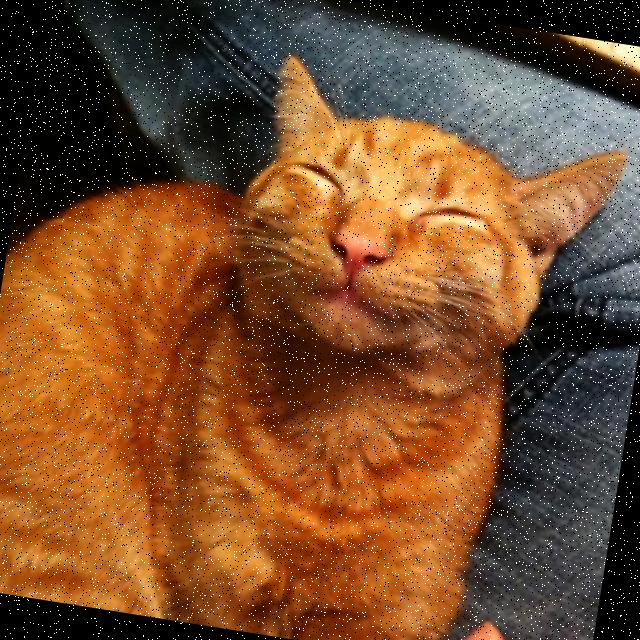Happy: (238, 130, 520, 362)
